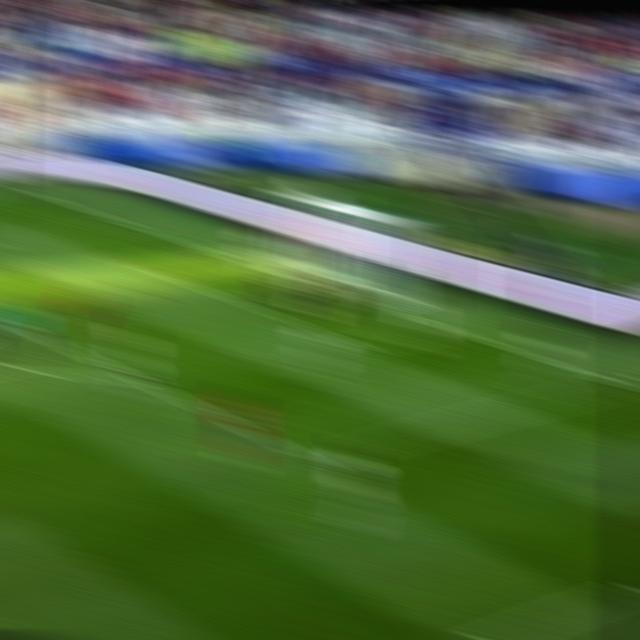bigarea_bottom_inner: (293, 444, 334, 474)
bigarea_bottom_outter: (600, 370, 639, 396)
bigarea_top_outter: (110, 213, 147, 233)
bottom_arc_area_intersection: (113, 364, 150, 389)
corner: (3, 178, 43, 197)
smallarea_bottom_inner: (338, 331, 378, 356)
smallarea_bottom_outter: (422, 312, 460, 336)
smallarea_top_inner: (134, 258, 173, 279)
smallarea_top_outter: (211, 245, 248, 267)
